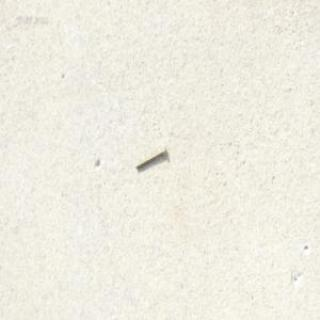Bolttrack_idkeyframe: (134, 145, 165, 169)
